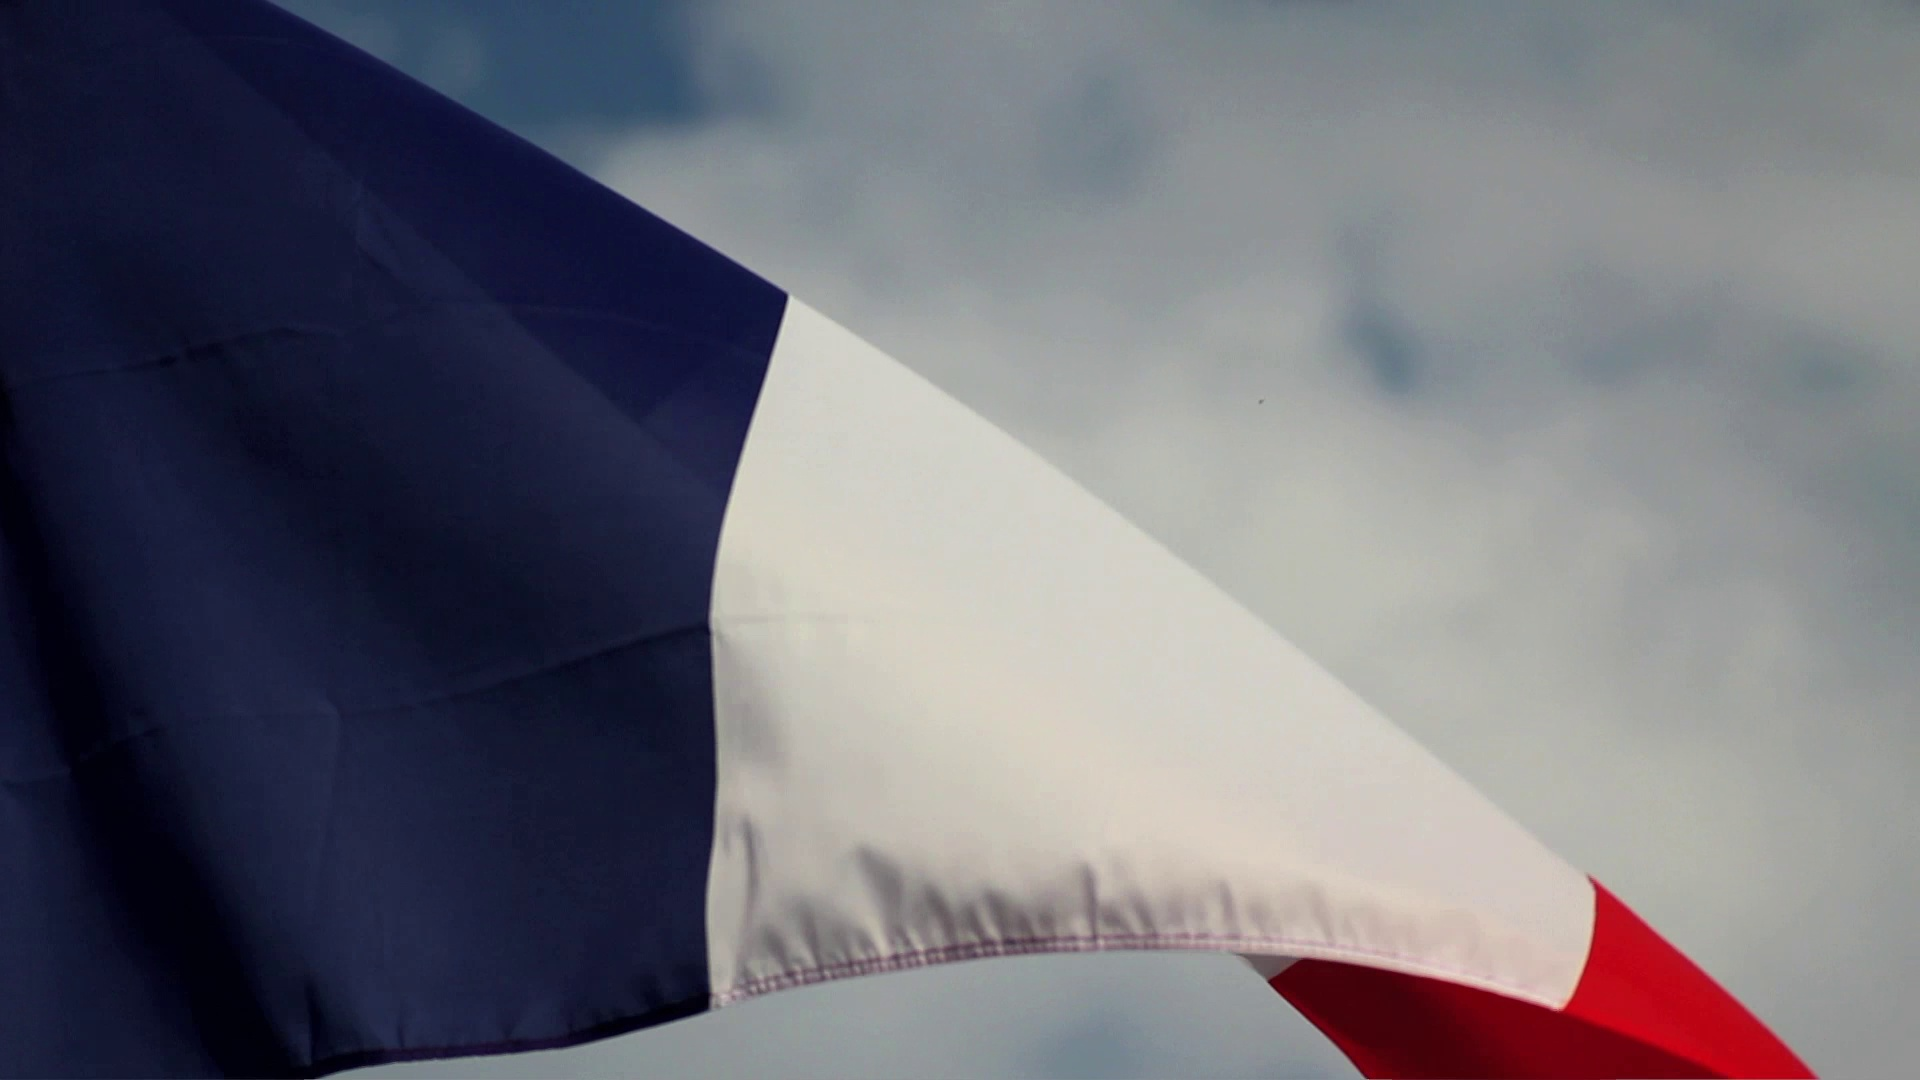French Flag: (1, 1, 1818, 1080)
